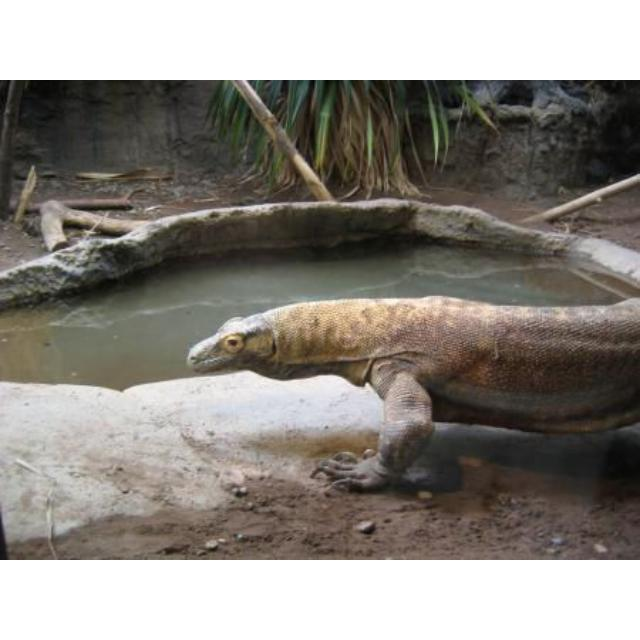KomodoDragon: (184, 292, 637, 486)
